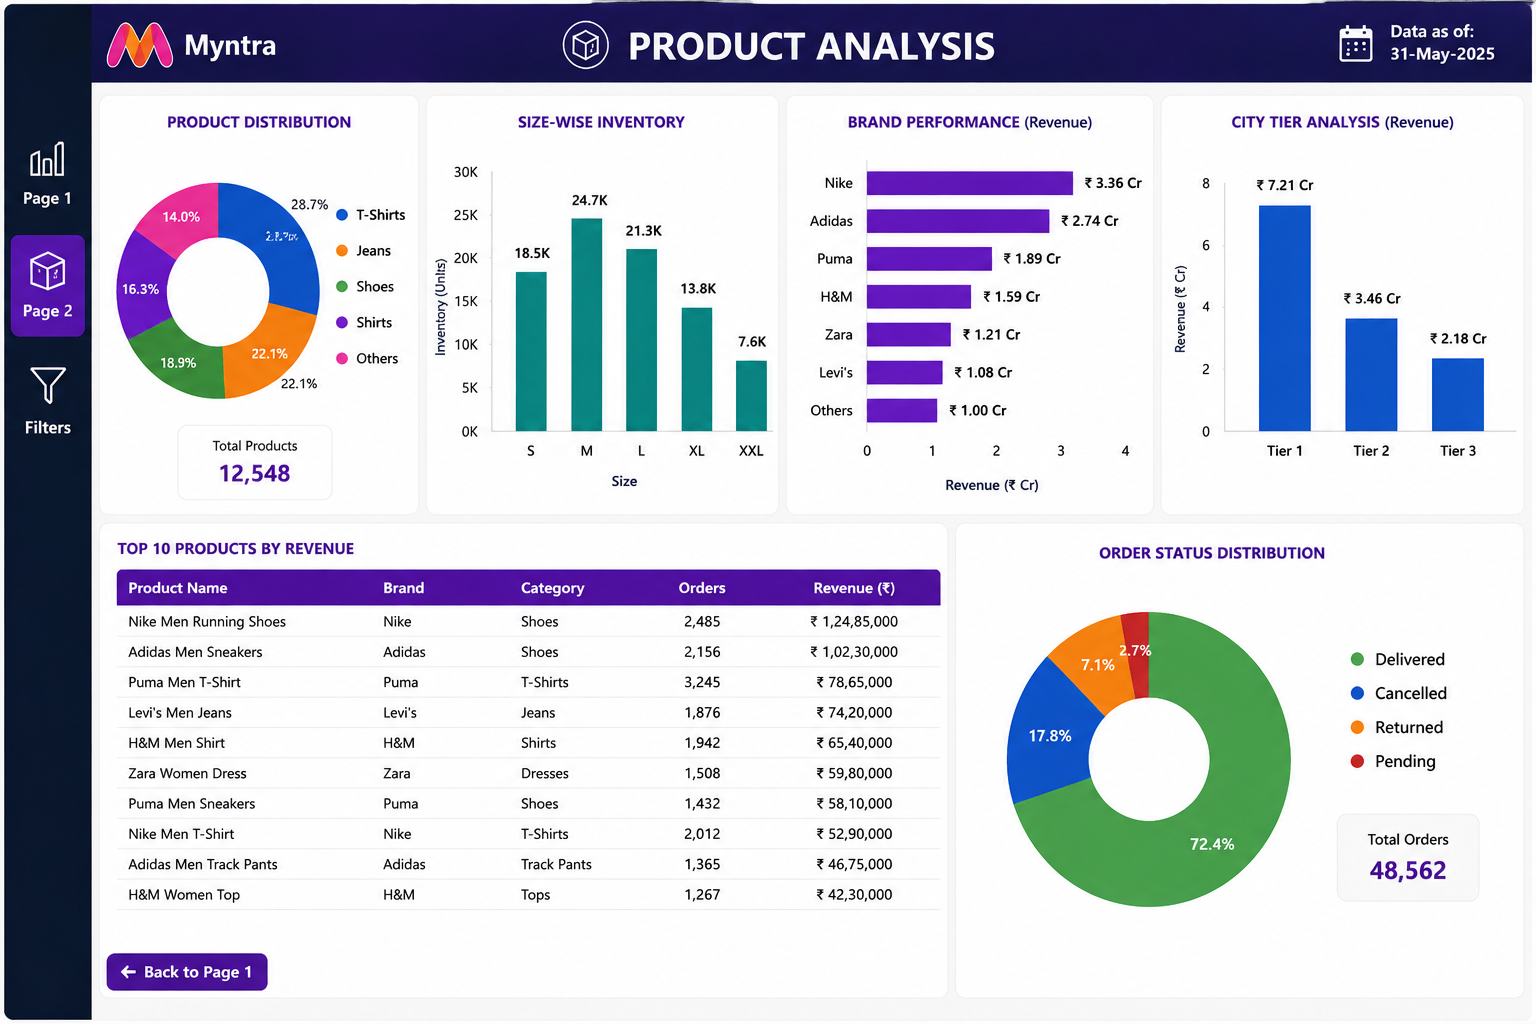

The page's visual inventory and layout, read from the dashboard file:
{"tool":"powerbi","page":{"name":"Page 2","canvas":[1920,1080],"ordinal":1},"visuals":[{"type":"shape","box":[0,0,1920.7,114.5],"z":0},{"type":"image","box":[24.2,385.9,91.8,95.2],"z":1000},{"type":"image","box":[34.2,395.9,91.8,95.2],"z":2000},{"type":"shape","box":[0,0,150,1080],"z":3000},{"type":"image","box":[24,566,91.8,84.4],"z":4000},{"type":"donutChart","title":"PRODUCT DISTRIBUTION","fields":{"Category":["myntra_product_catalog.Category Group"],"Y":["myntra_Orders_Master.Total Products"]},"box":[159.9,128.8,453.3,446.2],"z":5000},{"type":"clusteredColumnChart","title":"SIZE-WISE INVENTORY","fields":{"Category":["Inventory_Unpivot.Size"],"Y":["myntra_Orders_Master.Total Inventory"]},"box":[632.3,128.8,429.5,446.2],"z":6000},{"type":"clusteredBarChart","title":"BRAND PERFORMANCE (Revenue)","fields":{"Category":["myntra_Orders_Master.Brand Group"],"Y":["myntra_Orders_Master.Revenue Cr"]},"box":[1085.6,128.8,429.5,446.2],"z":7000},{"type":"clusteredColumnChart","title":"CITY TIER ANALYSIS (Revenue)","fields":{"Category":["myntra_Orders_Master.City_Tier"],"Y":["myntra_Orders_Master.Revenue Cr"]},"box":[1538.9,128.8,360.3,446.2],"z":8000},{"type":"tableEx","title":"TOP 10 PRODUCTS BY REVENUE","fields":{"Values":["myntra_Orders_Master.Product_Name","myntra_Orders_Master.Brand_Name","myntra_Orders_Master.Category","myntra_Orders_Master.Total Orders","myntra_Orders_Master.Total Revenue"]},"box":[159.9,620.3,596.5,443.8],"z":9000},{"type":"donutChart","title":"ORDER STATUS DISTRIBUTION","fields":{"Category":["myntra_Orders_Master.Order_Status"],"Y":["myntra_Orders_Master.Total Orders"]},"box":[1212,598.9,691.9,460.5],"z":10000},{"type":"card","fields":{"Values":["myntra_Orders_Master.Total Products"]},"box":[477.2,412.8,136,97.8],"z":11000},{"type":"card","fields":{"Values":["myntra_Orders_Master.Total Orders"]},"box":[1663,870.9,219.5,107.4],"z":12000},{"type":"image","box":[1686.8,33.4,64,60],"z":13000},{"type":"image","box":[34,258,72,72],"z":14000},{"type":"image","box":[38.2,412.8,72,72],"z":15000},{"type":"textbox","box":[560,25,800,90],"z":16000},{"type":"textbox","box":[1770.4,35.8,112.1,59.6],"z":17000},{"type":"actionButton","box":[875.6,956.8,210,44],"z":18000},{"type":"image","box":[150.3,19.1,140.8,76.3],"z":19000},{"type":"image","box":[656.1,33.4,62,57.3],"z":20000},{"type":"textbox","box":[291.1,38.2,150.3,57.3],"z":21000},{"type":"textbox","box":[33.4,324.5,71.6,28.6],"z":21001},{"type":"textbox","box":[35.8,484.3,69.2,28.6],"z":21002},{"type":"textbox","box":[38.2,649,71.6,28.6],"z":21003}]}

Visuals, with their boxes on the page's 1920x1080 design canvas (x1, y1, x2, y2). These are canvas units, not pixel positions in the 1536x1024 screenshot, which may show the page scaled, cropped or inside an application window:
shape: select_region(0, 0, 1921, 114)
image: select_region(24, 386, 116, 481)
image: select_region(34, 396, 126, 491)
shape: select_region(0, 0, 150, 1080)
image: select_region(24, 566, 116, 650)
"PRODUCT DISTRIBUTION" donutChart: select_region(160, 129, 613, 575)
"SIZE-WISE INVENTORY" clusteredColumnChart: select_region(632, 129, 1062, 575)
"BRAND PERFORMANCE (Revenue)" clusteredBarChart: select_region(1086, 129, 1515, 575)
"CITY TIER ANALYSIS (Revenue)" clusteredColumnChart: select_region(1539, 129, 1899, 575)
"TOP 10 PRODUCTS BY REVENUE" tableEx: select_region(160, 620, 756, 1064)
"ORDER STATUS DISTRIBUTION" donutChart: select_region(1212, 599, 1904, 1059)
card - myntra_Orders_Master.Total Products: select_region(477, 413, 613, 511)
card - myntra_Orders_Master.Total Orders: select_region(1663, 871, 1882, 978)
image: select_region(1687, 33, 1751, 93)
image: select_region(34, 258, 106, 330)
image: select_region(38, 413, 110, 485)
textbox: select_region(560, 25, 1360, 115)
textbox: select_region(1770, 36, 1882, 95)
actionButton: select_region(876, 957, 1086, 1001)
image: select_region(150, 19, 291, 95)
image: select_region(656, 33, 718, 91)
textbox: select_region(291, 38, 441, 96)
textbox: select_region(33, 324, 105, 353)
textbox: select_region(36, 484, 105, 513)
textbox: select_region(38, 649, 110, 678)
